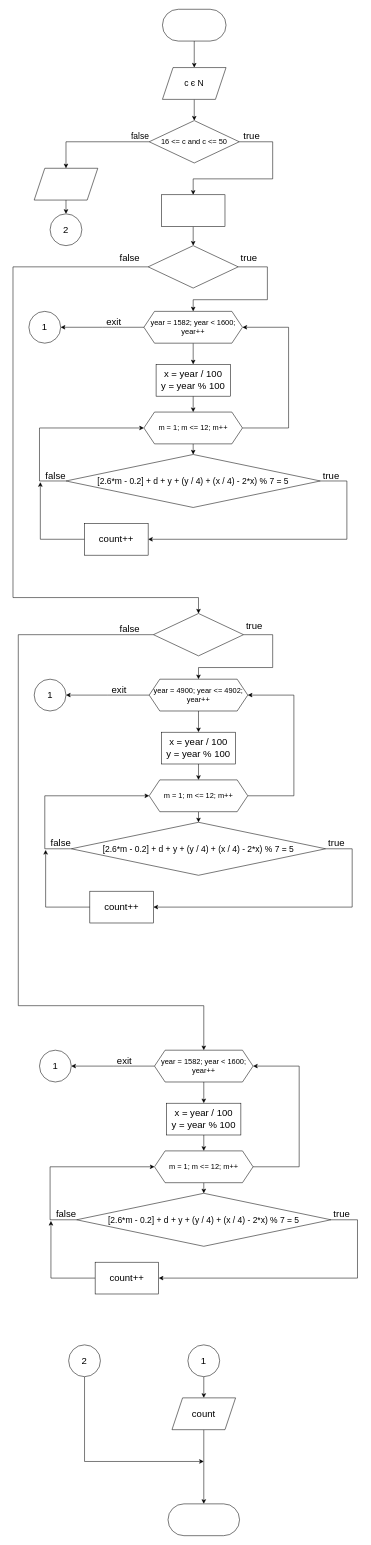
Some shapes in this 371 by 1545 pixel diagram are drawn without their labels. The centre of each missing label's shape, as x and y in pixels:
"c = 16" belongs at [193,266].
"c = 50" belongs at [198,634].
"count = 0 d = 13" belongs at [193,210].
"End" belongs at [203,1519].
"Error" belongs at [66,184].
"Start" belongs at [194,25].
